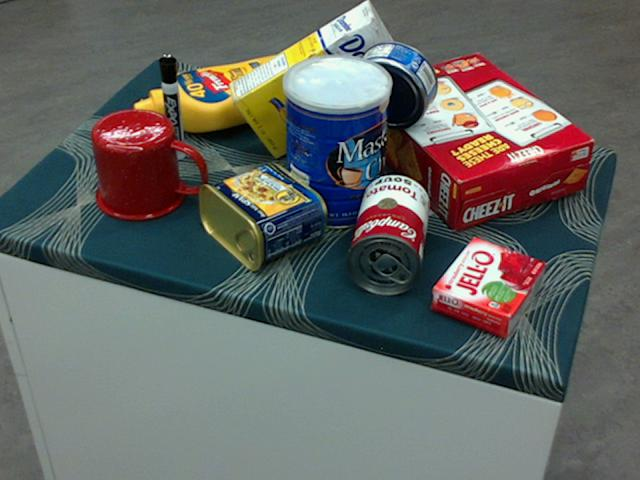cracker_box: (355, 52, 591, 230)
gelatin_box: (431, 236, 544, 335)
large_marker: (156, 53, 186, 159)
master_chef_can: (281, 55, 390, 231)
mug: (91, 108, 204, 221)
mustard_bottle: (131, 53, 306, 131)
potted_meat_can: (195, 162, 325, 271)
sugar_box: (225, 0, 412, 159)
tomato_soup_can: (343, 173, 431, 294)
tuna_fish_can: (349, 39, 437, 127)
